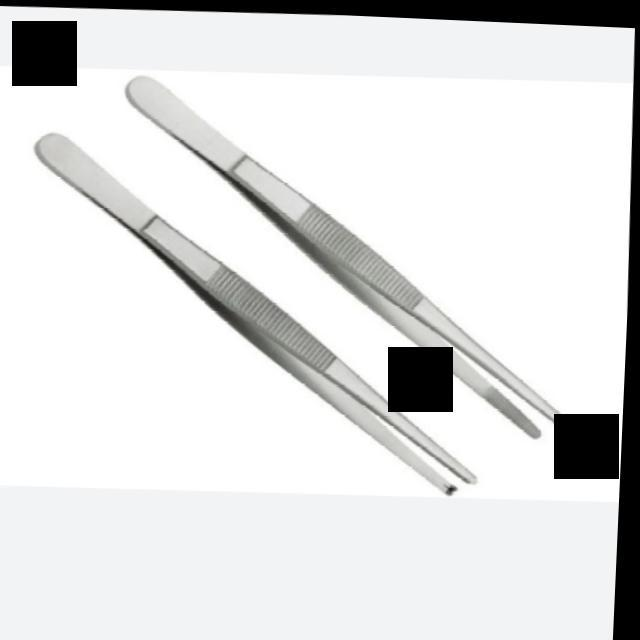Disscting Forceps -Plain-: (109, 62, 590, 440)
Disscting Forceps -tooth-: (16, 120, 498, 503)
